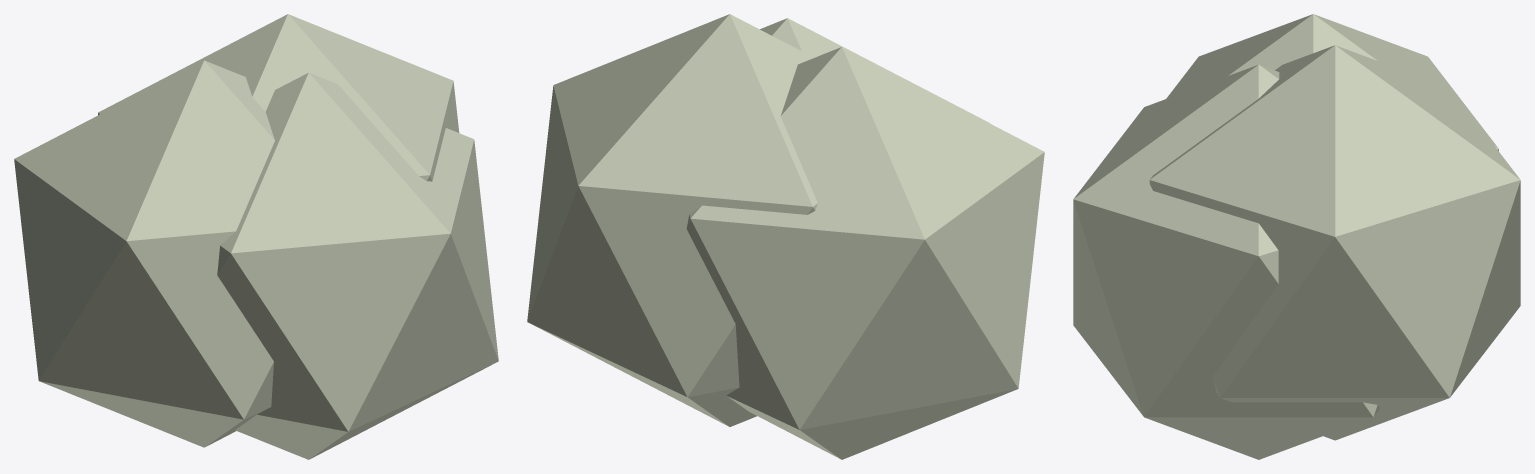
Rendered from RuinRockCluster.fbx.
3 views of the same model, side by side, from view 1: azimuth 30°, elevation 25°; view 2: azimuth 150°, elevation 25°; view 3: azimuth 270°, elevation 25° (orthographic). The views are drawn at different scales.
Visible parts, largest first — view 1: BrokenStone0, BrokenStone2, BrokenStone1; view 2: BrokenStone0, BrokenStone1, BrokenStone2; view 3: BrokenStone1, BrokenStone2, BrokenStone0.
Boxes of the visible parts, box(x1,y1,x2,y2) form: BrokenStone0: box(14, 60, 274, 447); BrokenStone2: box(217, 72, 498, 459); BrokenStone1: box(98, 14, 459, 181); BrokenStone0: box(686, 47, 1044, 459); BrokenStone1: box(527, 14, 817, 426); BrokenStone2: box(760, 18, 990, 123); BrokenStone1: box(1149, 45, 1520, 440); BrokenStone2: box(1073, 64, 1379, 459); BrokenStone0: box(1166, 14, 1498, 150).
Bounding box in the file's own units: 2.3 × 2.14 × 2.05.
